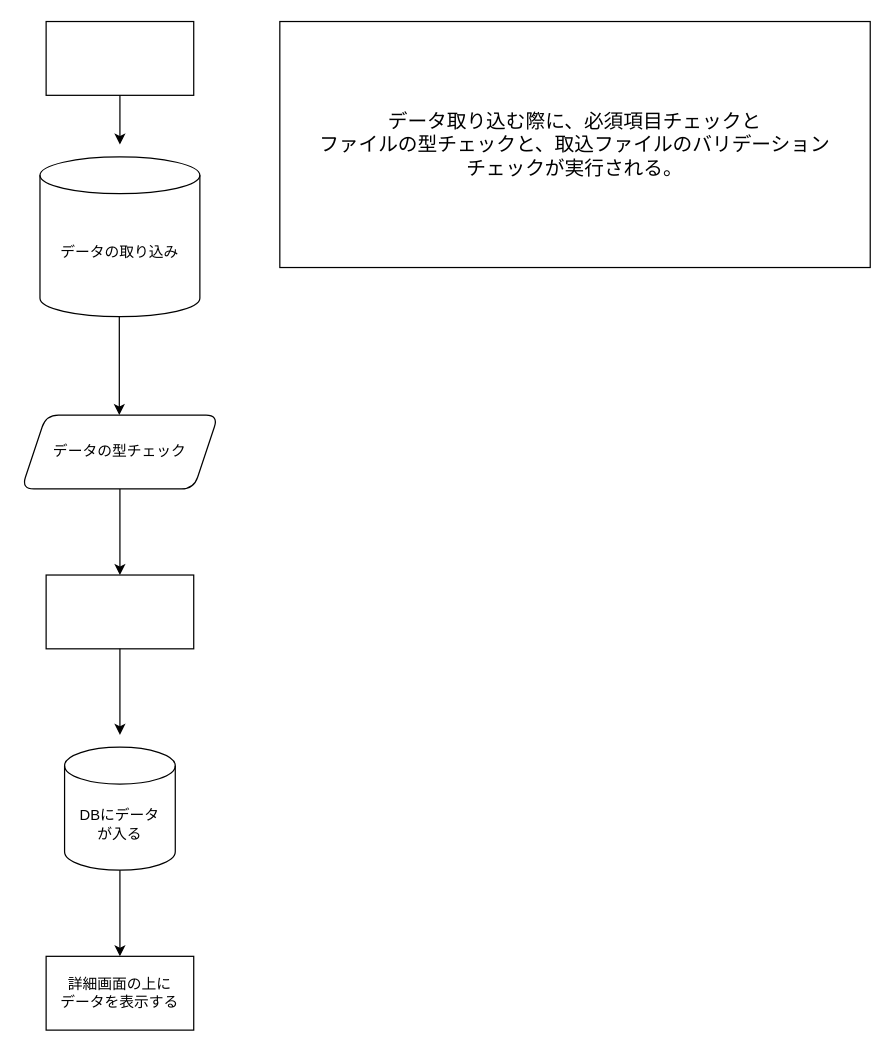
Some shapes in this 892 by 1052 pixel diagram are drawn without their labels. The shapes that lost their labels are listed below. From the top down, each one's centre as x and y in pixels, then its label:
At (119,57): "取込み".
At (119,611): "取り込み実行される".
